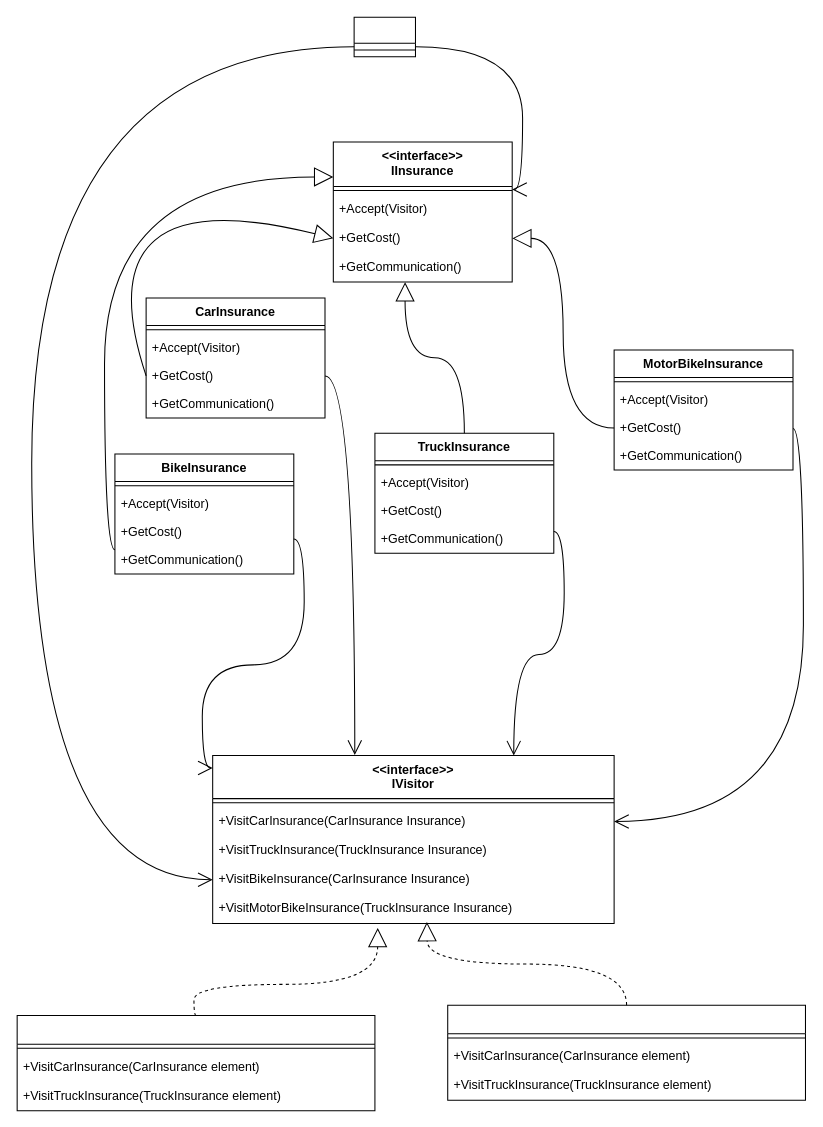
Image size: 823x1127. Some labels were removed from this diagram. The box of each missing label's shape, as (x1, y1, x2, y2) in pixels:
Client: (353, 16, 415, 57)
CustomerCommunicationVisitor: (16, 1015, 375, 1111)
TypeVisitor: (447, 1004, 805, 1100)
